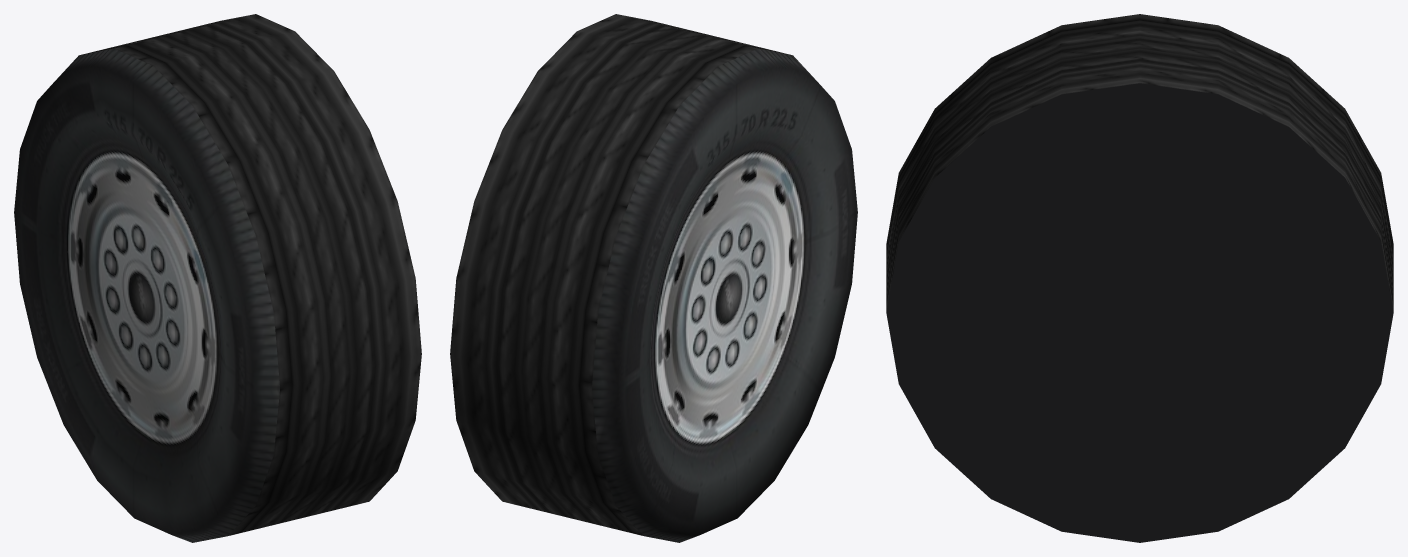
The model's file is wheel_poli.FBX.
3 renders of one model, left to right at view 1: azimuth 30°, elevation 25°; view 2: azimuth 150°, elevation 25°; view 3: azimuth 270°, elevation 25°, orthographic.
Visible parts, largest first — view 1: Object007; view 2: Object007; view 3: Object007.
Boxes of the visible parts, box(x1,y1,x2,y2) form: Object007: box(14, 14, 421, 542); Object007: box(450, 14, 857, 542); Object007: box(886, 14, 1393, 542).
Size of the model in its own units: 0.035 by 0.0956 by 0.0956.
